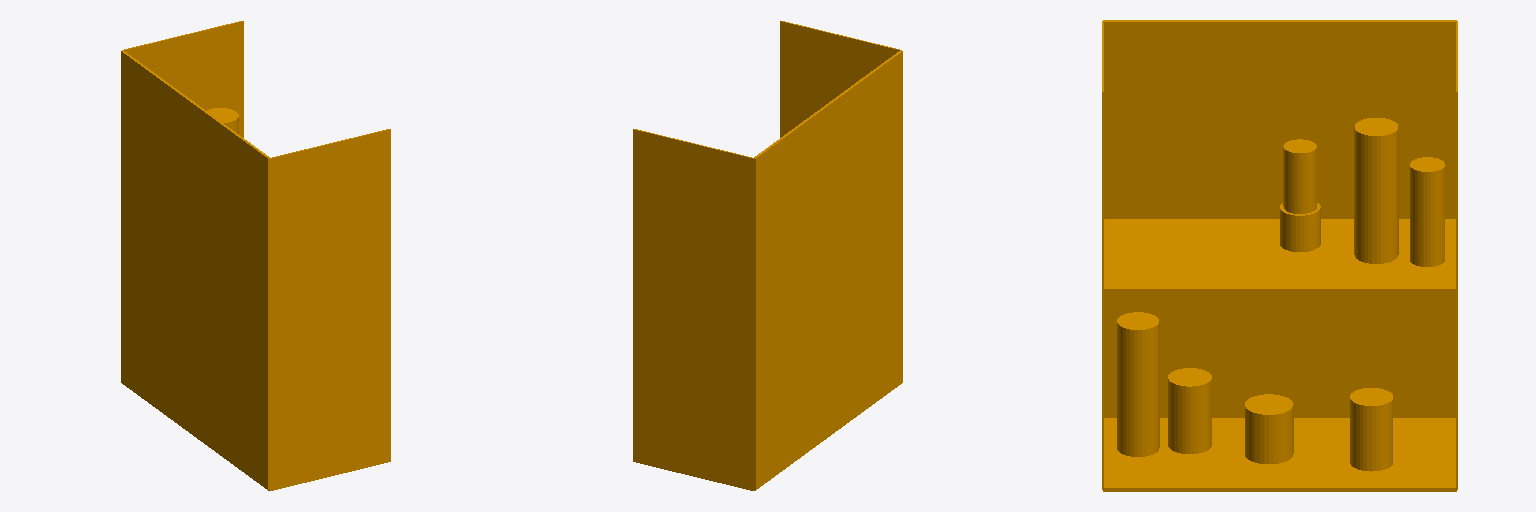
robot.urdf — syn_can_cabinet_1644:
<?xml version="1.0" ?>
<robot name="syn_can_cabinet_1644">
    <link concave="yes" name="base_link">
        <inertial>
            <origin rpy="0 0 0" xyz="0 0 0"/>
            <mass value="0.0"/>
            <inertia ixx="1e-08" ixy="0" ixz="0" iyy="1e-08" iyz="0" izz="1e-08"/>
        </inertial>
        <visual>
            <origin xyz="0 0 0" rpy="0 0 0" />
            <geometry>
                <mesh filename="syn_can_cabinet_1644.obj" scale="1.000000 1.000000 1.000000"/>
            </geometry>         
        </visual>

        <collision concave="yes">
            <origin xyz="0 0 0" rpy="0 0 0"/>
            <geometry>
                <mesh filename="syn_can_cabinet_1644.obj" scale="1.000000 1.000000 1.000000"/>
            </geometry>
        </collision>
    </link>
</robot>
    

--- Render facts (derived) ---
3 views of the same robot in one strip: view 1: azimuth 30°, elevation 25°; view 2: azimuth 150°, elevation 25°; view 3: azimuth 270°, elevation 25° (orthographic).
Robot: syn_can_cabinet_1644 — 1 links, 0 joints (none); root link base_link; default pose: every joint at zero.
Visible links, largest first — view 1: base_link; view 2: base_link; view 3: base_link.
Boxes of the visible links, x1=… form: base_link: x1=121, y1=21, x2=390, y2=490; base_link: x1=633, y1=21, x2=902, y2=490; base_link: x1=1102, y1=20, x2=1457, y2=491.
Size in the robot's own frame: 0.2177 by 0.4561 by 0.5648 metres.
1 mesh visuals loaded from 1 distinct referenced files (1 OBJ).
